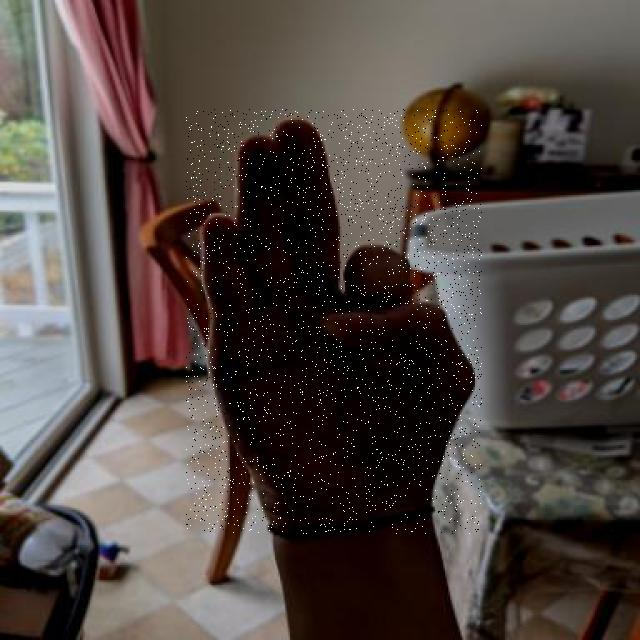F: (186, 109, 482, 534)
